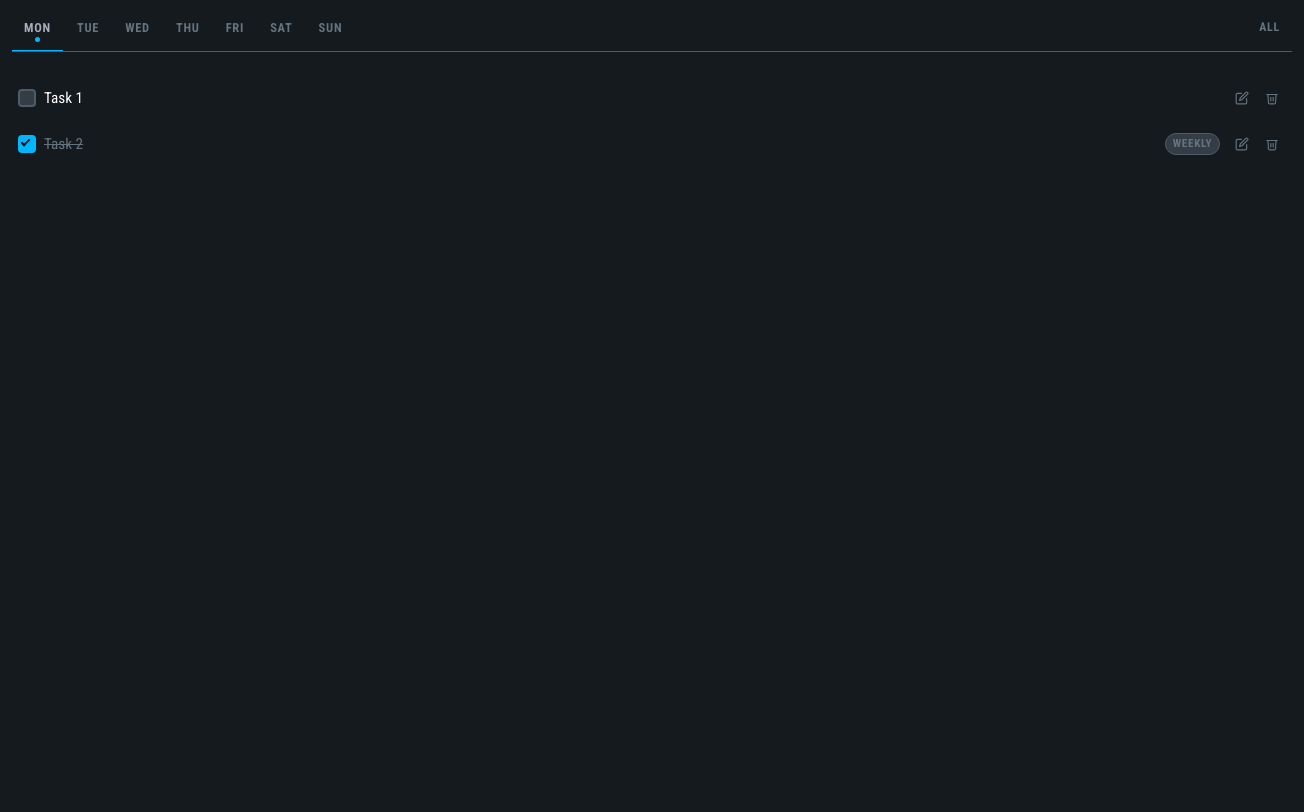
Test: WeeklyTaskList › switches to all-days view when All tab is clicked
Click the tab "All". click: point(1270, 32)
box: top-left (1247, 12), bottom-right (1292, 52)
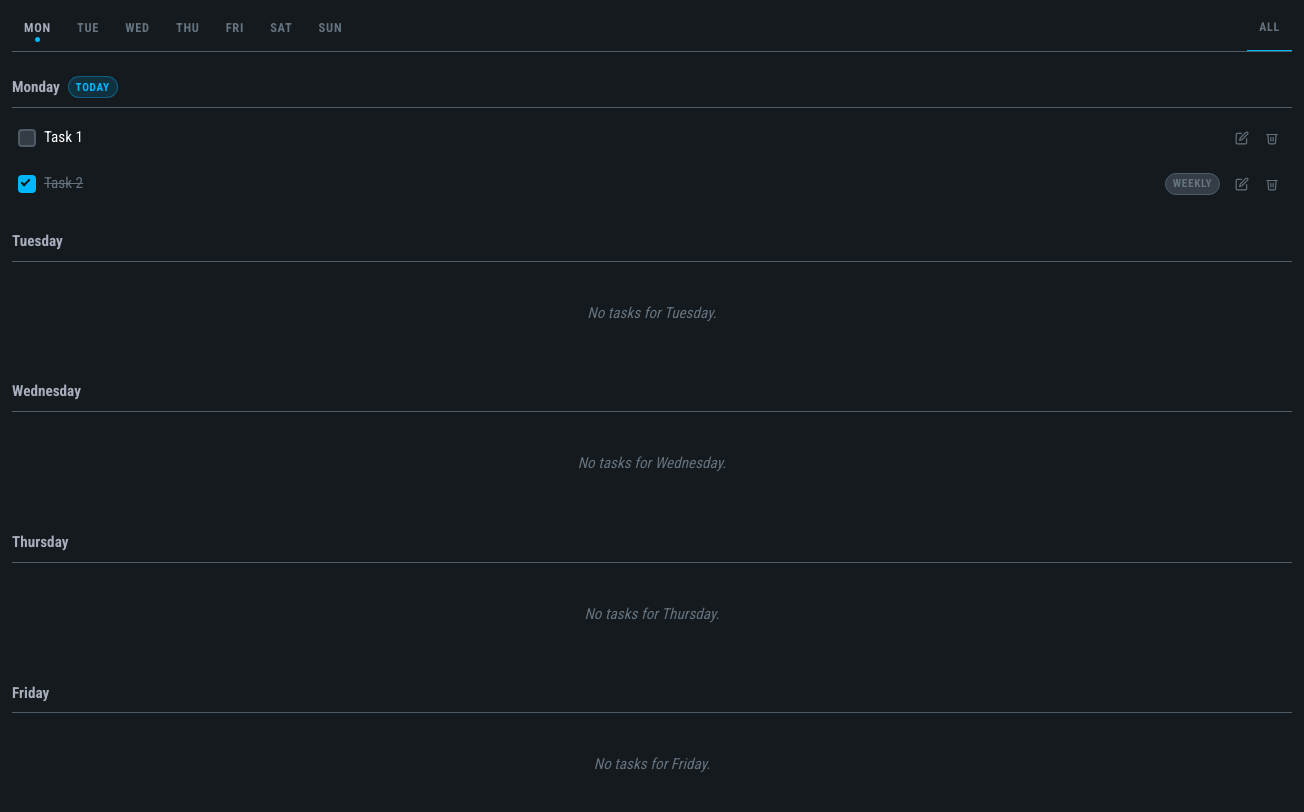
Now the text "Monday" is shown, box top-left (12, 78), bottom-right (60, 96)
Now the text "Tuesday" is shown, box top-left (12, 230), bottom-right (1292, 262)
Now the text "Wednesday" is shown, box top-left (12, 380), bottom-right (1292, 412)
